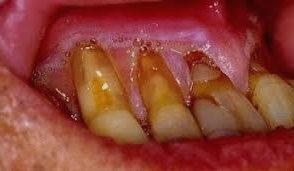Tooth Discoloration: (68, 39, 239, 128)
